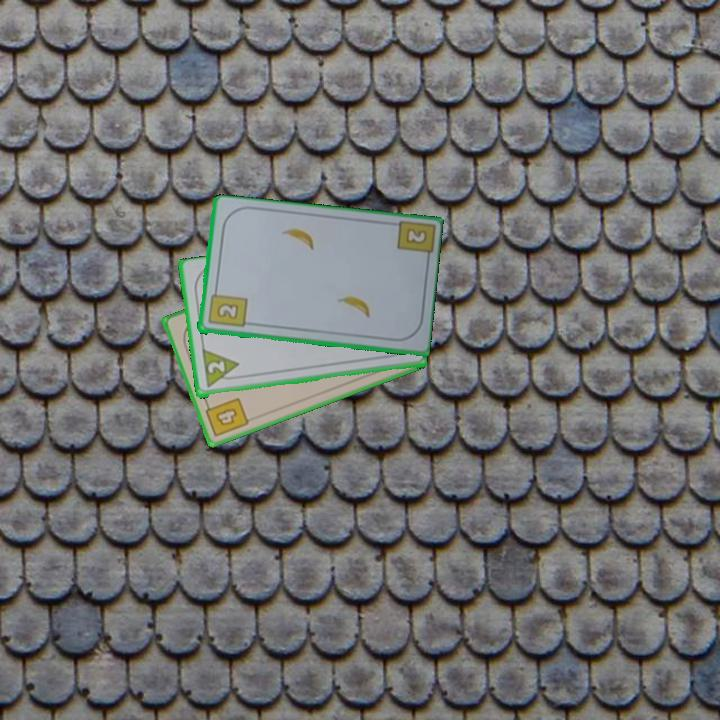2b: (205, 285, 249, 331), (402, 225, 428, 246)
2p: (198, 347, 243, 392)
4b: (201, 394, 252, 440)
